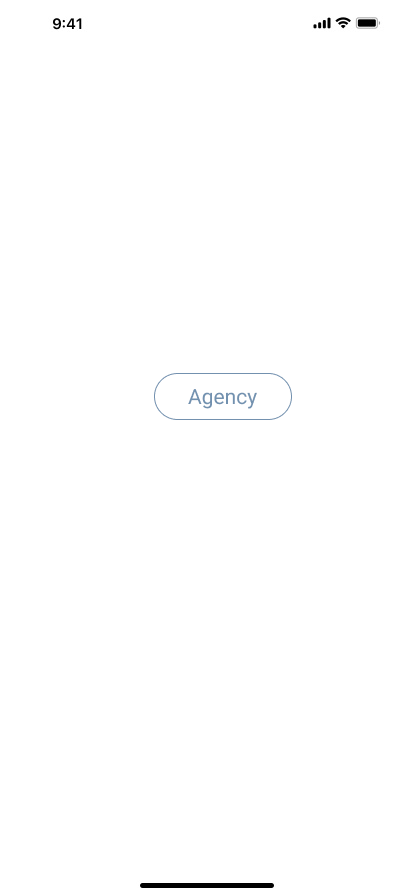Buttons: (154, 373, 300, 420)
Home Indicator: (0, 862, 414, 896)
Status Bar: (0, 0, 414, 44)
